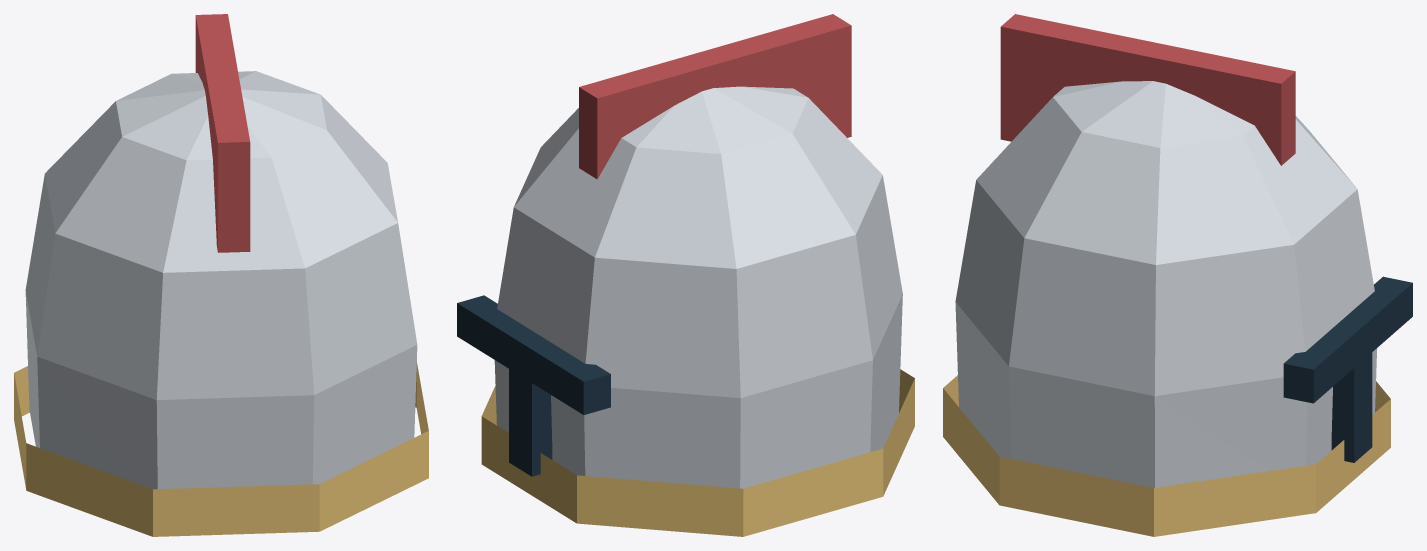
Rendered from Helm.obj.
The picture shows the model from 3 angles, left to right: view 1: azimuth 30°, elevation 25°; view 2: azimuth 150°, elevation 25°; view 3: azimuth 270°, elevation 25°; orthographic projection. The views are drawn at different scales.
Bounding box in the file's own units: 2.16 × 2.07 × 2.26.
